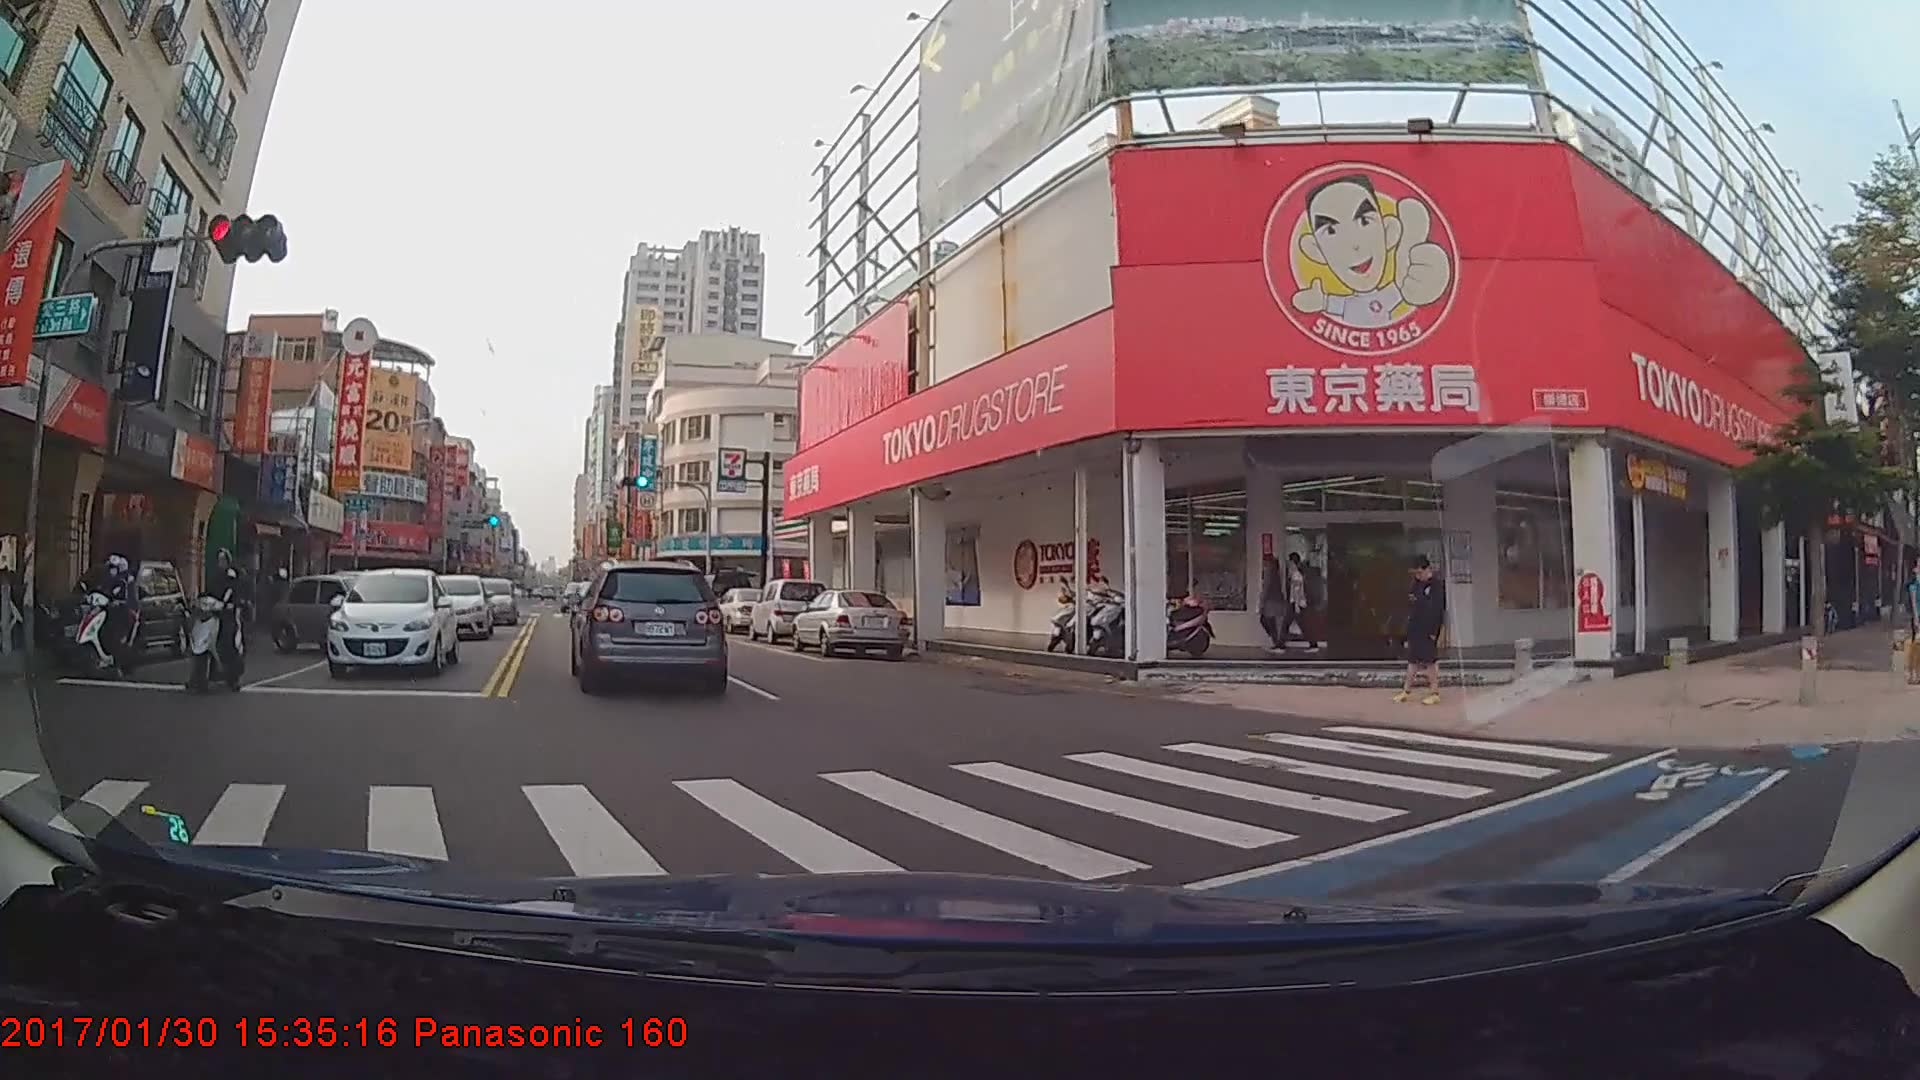pedestrian: (1401, 548, 1452, 704), (1257, 549, 1295, 654), (1282, 553, 1314, 651)
rider: (64, 555, 159, 679), (182, 549, 256, 700)
vehicle: (577, 561, 723, 692), (46, 557, 190, 668), (326, 566, 457, 677), (269, 571, 401, 654), (792, 587, 910, 660), (749, 579, 828, 644), (421, 573, 493, 639), (705, 585, 780, 631), (469, 576, 518, 626)
